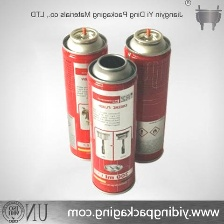aerosol_cans: (86, 50, 140, 197), (119, 24, 174, 166), (60, 23, 112, 164)
